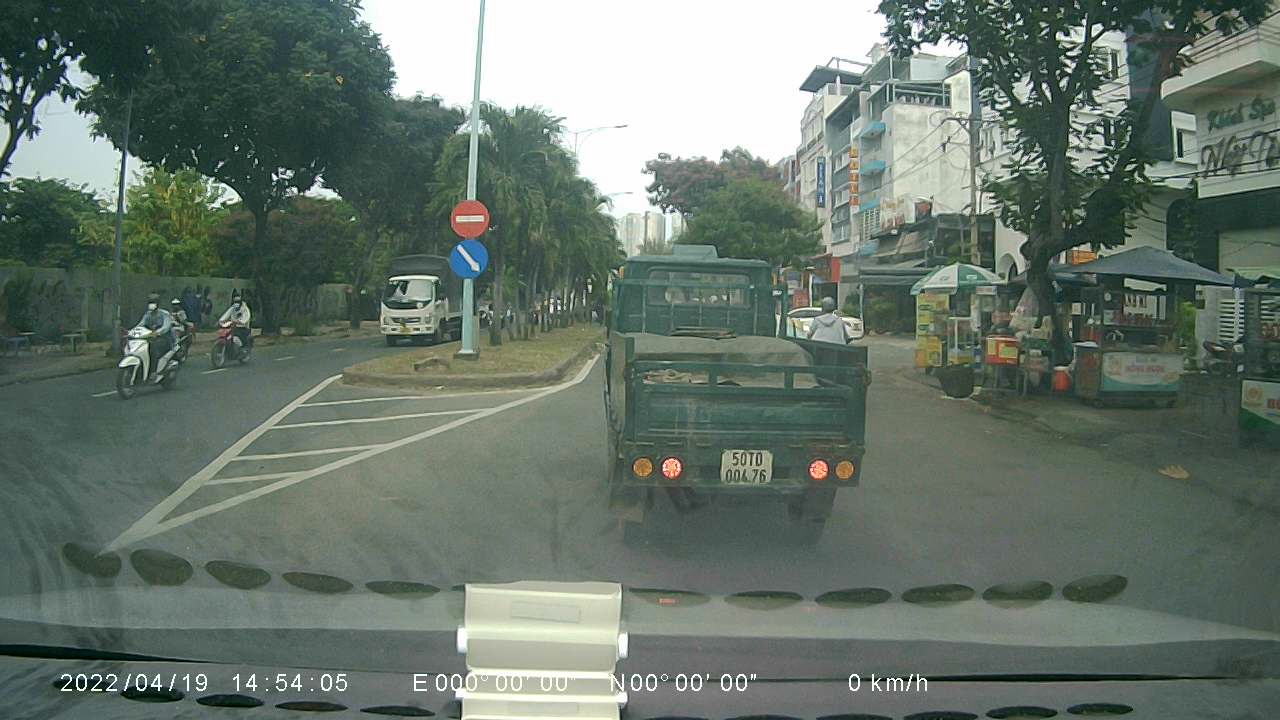Cam di nguoc chieu: (450, 197, 490, 236)
Huong di phai re phai: (445, 238, 489, 279)
